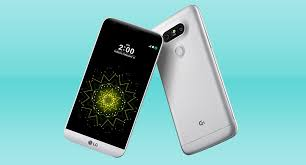lg: (59, 14, 170, 156)
